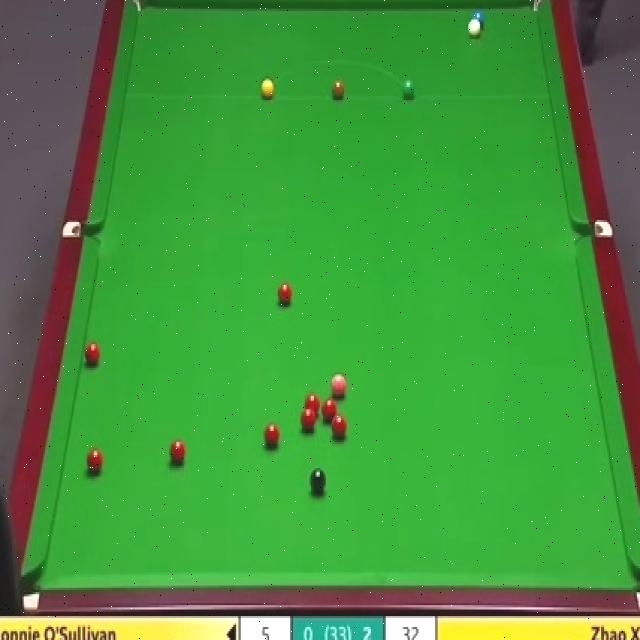black-ball: (309, 468, 327, 496)
blue-ball: (470, 5, 488, 31)
brown-ball: (331, 80, 346, 102)
green-ball: (401, 78, 416, 102)
pink-ball: (328, 373, 348, 399)
red-ball: (86, 446, 104, 476), (168, 439, 186, 465), (276, 281, 294, 307), (299, 408, 317, 433), (83, 341, 100, 367), (303, 392, 321, 416), (264, 422, 280, 449), (324, 396, 342, 418), (331, 414, 347, 438)
white-ball: (466, 17, 482, 38)
yellow-ball: (261, 78, 275, 100)
